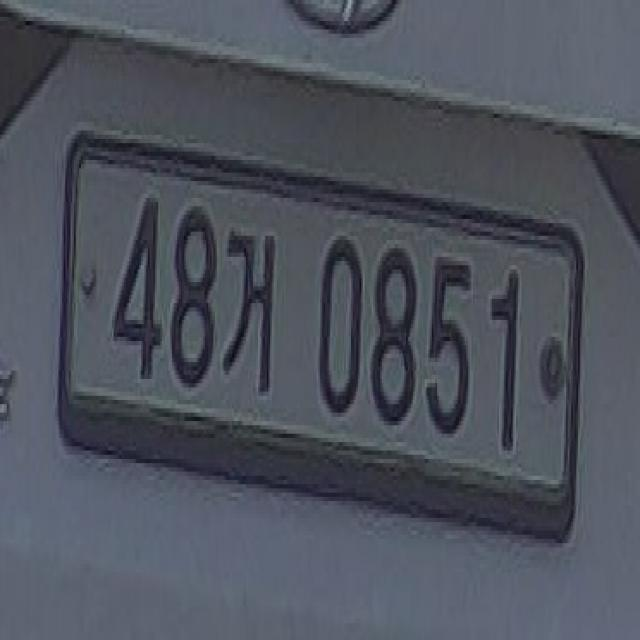0: (316, 226, 364, 438)
1: (486, 265, 526, 462)
4: (110, 177, 164, 406)
5: (426, 246, 476, 451)
8: (169, 195, 221, 411), (370, 234, 419, 446)
geo: (222, 216, 278, 408)
license_plate: (47, 103, 596, 573)
